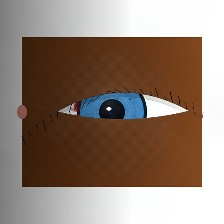hemorrhage_spot: (62, 73, 147, 141)
